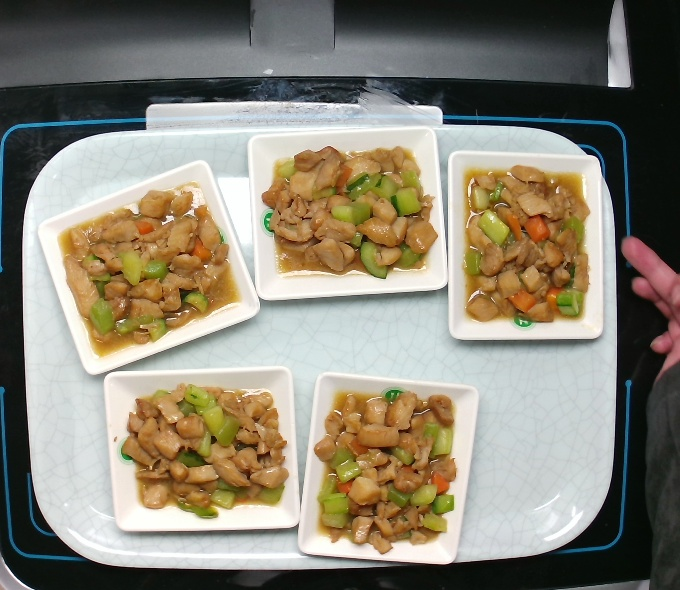wcq-GongBaoJiDing: (53, 183, 243, 356), (119, 375, 297, 521), (260, 145, 441, 281), (454, 163, 597, 324), (312, 394, 455, 555)
